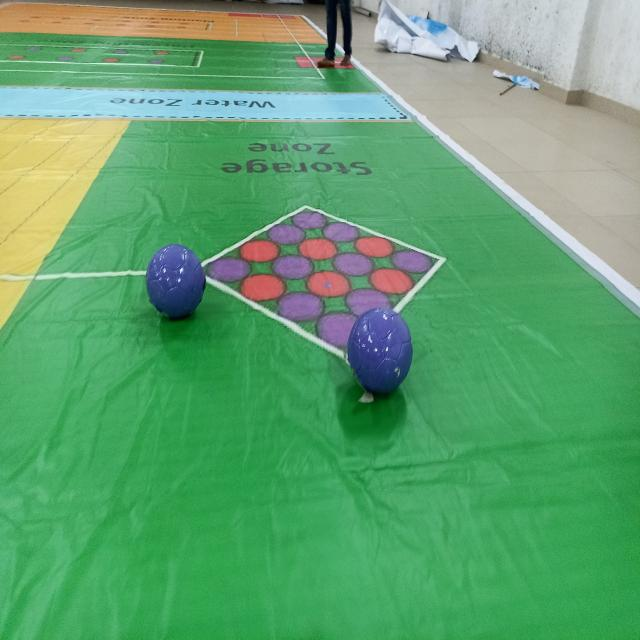purple_ball: (348, 310, 413, 398), (145, 240, 205, 322)
